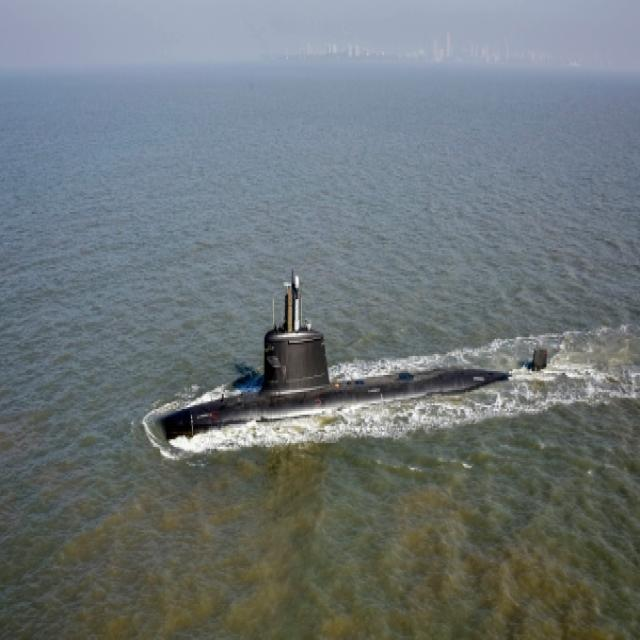Submarine-Shishumar-Class-IND: (157, 262, 551, 445)
